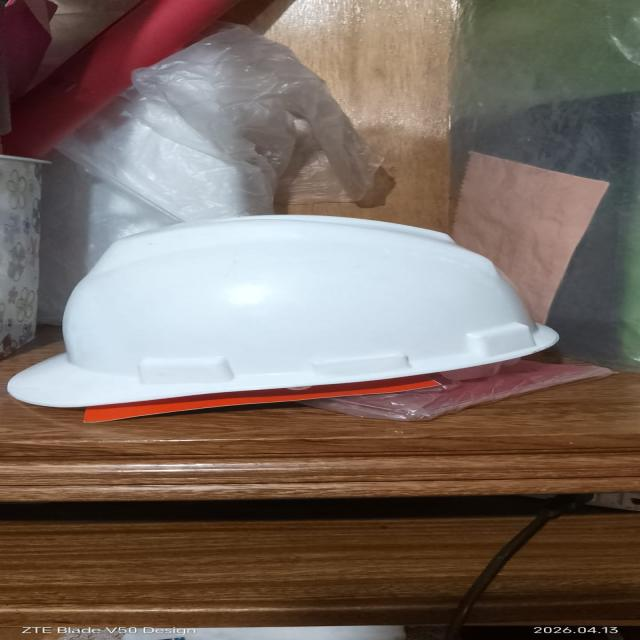casco: (0, 216, 602, 418)
